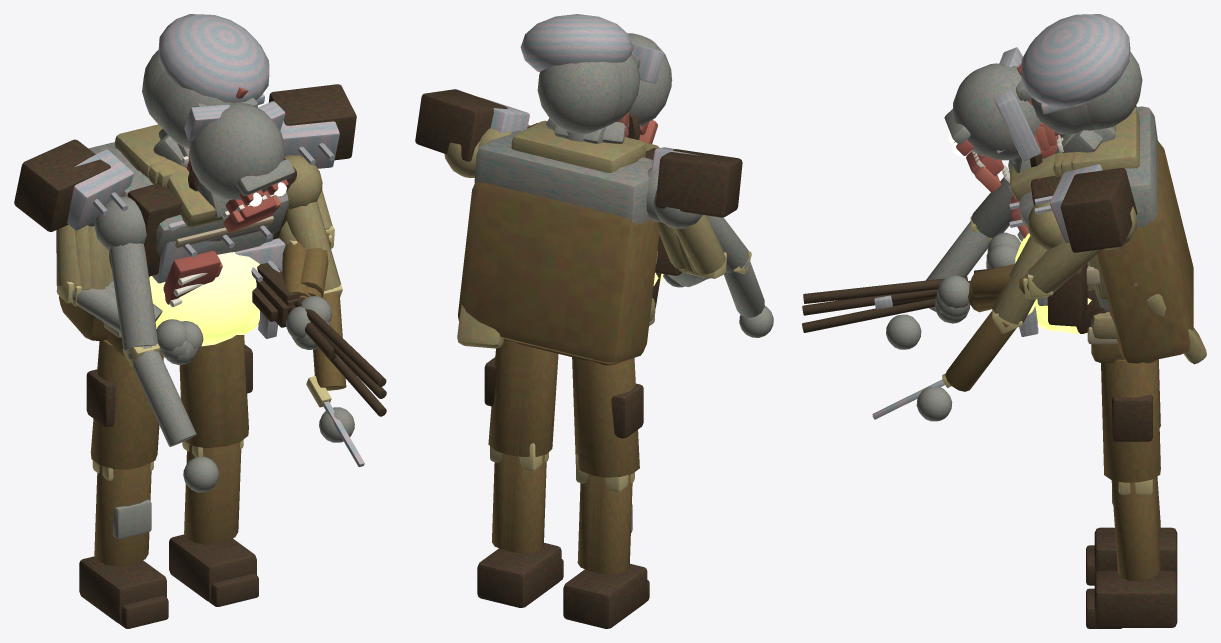
Rendered from characters.glb.
The picture shows the model from 3 angles, left to right: view 1: azimuth 30°, elevation 25°; view 2: azimuth 150°, elevation 25°; view 3: azimuth 270°, elevation 25°; orthographic projection. The views are drawn at different scales.
Visible parts, largest first — view 1: Char_Rifle_Helm, Char_Rusher_Head, Char_Grenadier_BileSac, Char_Finalboss_SandPlate3, Char_Finalboss_ThL, Char_Rusher_UpL, Char_Finalboss_SandPlate4, Char_Rusher_ThR, Char_Rusher_LoL, Char_Rusher_BootR, Char_Finalboss_CaL, Char_Midboss_ShoulderPlateL (+54 smaller); view 2: Char_Midboss_Coat, Char_Finalboss_Chest, Char_Finalboss_Head, Char_Finalboss_SandPlate3, Char_Rifle_Helm, Char_Finalboss_ThL, Char_Finalboss_SandPlate4, Char_Rusher_ThR, Char_Finalboss_CaL, Char_Rusher_CaR, Char_Finalboss_Collar, Char_Finalboss_ThR (+23 smaller); view 3: Char_Midboss_Coat, Char_Rifle_Helm, Char_Finalboss_ThR, Char_Finalboss_SandPlate4, Char_Rusher_Head, Char_Finalboss_CaR, Char_Finalboss_BootR, Char_Finalboss_Chest, Char_Rusher_LoR, Char_Finalboss_Head, Char_Rusher_UpR, Char_Finalboss_UpR (+24 smaller).
Part boxes in pixels (<box>): Char_Rifle_Helm: <box>158,14,269,102</box>; Char_Rusher_Head: <box>189,102,284,200</box>; Char_Grenadier_BileSac: <box>149,252,259,346</box>; Char_Finalboss_SandPlate3: <box>14,139,110,231</box>; Char_Finalboss_ThL: <box>90,340,146,469</box>; Char_Rusher_UpL: <box>109,243,158,351</box>; Char_Finalboss_SandPlate4: <box>268,84,356,160</box>; Char_Rusher_ThR: <box>179,344,219,447</box>; Char_Rusher_LoL: <box>127,345,196,446</box>; Char_Rusher_BootR: <box>169,535,243,601</box>; Char_Finalboss_CaL: <box>94,465,131,566</box>; Char_Midboss_ShoulderPlateL: <box>67,149,133,230</box>; Char_Midboss_Coat: <box>458,181,659,364</box>; Char_Finalboss_Chest: <box>474,130,652,224</box>; Char_Finalboss_Head: <box>537,61,623,133</box>; Char_Finalboss_SandPlate3: <box>655,149,742,217</box>; Char_Rifle_Helm: <box>520,14,633,72</box>; Char_Finalboss_ThL: <box>587,358,639,477</box>; Char_Finalboss_SandPlate4: <box>415,89,507,161</box>; Char_Rusher_ThR: <box>522,347,558,456</box>; Char_Finalboss_CaL: <box>597,474,632,574</box>; Char_Rusher_CaR: <box>512,454,546,553</box>; Char_Finalboss_Collar: <box>511,120,643,172</box>; Char_Finalboss_ThR: <box>488,340,517,454</box>; Char_Midboss_Coat: <box>1097,140,1193,363</box>; Char_Rifle_Helm: <box>1021,14,1130,106</box>; Char_Finalboss_ThR: <box>1101,359,1160,482</box>; Char_Finalboss_SandPlate4: <box>1060,168,1137,252</box>; Char_Rusher_Head: <box>953,63,1040,160</box>; Char_Finalboss_CaR: <box>1111,478,1160,580</box>; Char_Finalboss_BootR: <box>1094,583,1177,627</box>; Char_Finalboss_Chest: <box>1128,106,1157,227</box>; Char_Rusher_LoR: <box>945,311,1016,391</box>; Char_Finalboss_Head: <box>1086,51,1142,129</box>; Char_Rusher_UpR: <box>992,236,1047,324</box>; Char_Finalboss_UpR: <box>1028,240,1102,293</box>.
Size of the model in its own units: 1.07 by 1.86 by 1.18.
Materials: 84 (53 with a texture image).
